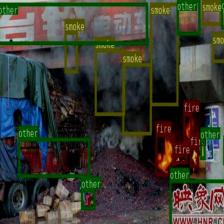fire: (156, 133, 174, 175), (183, 112, 192, 141), (190, 145, 198, 167), (173, 154, 187, 163)
smoke: (150, 2, 178, 105), (122, 63, 152, 134), (94, 49, 125, 115), (64, 31, 77, 72), (201, 0, 220, 24), (211, 32, 224, 62)
